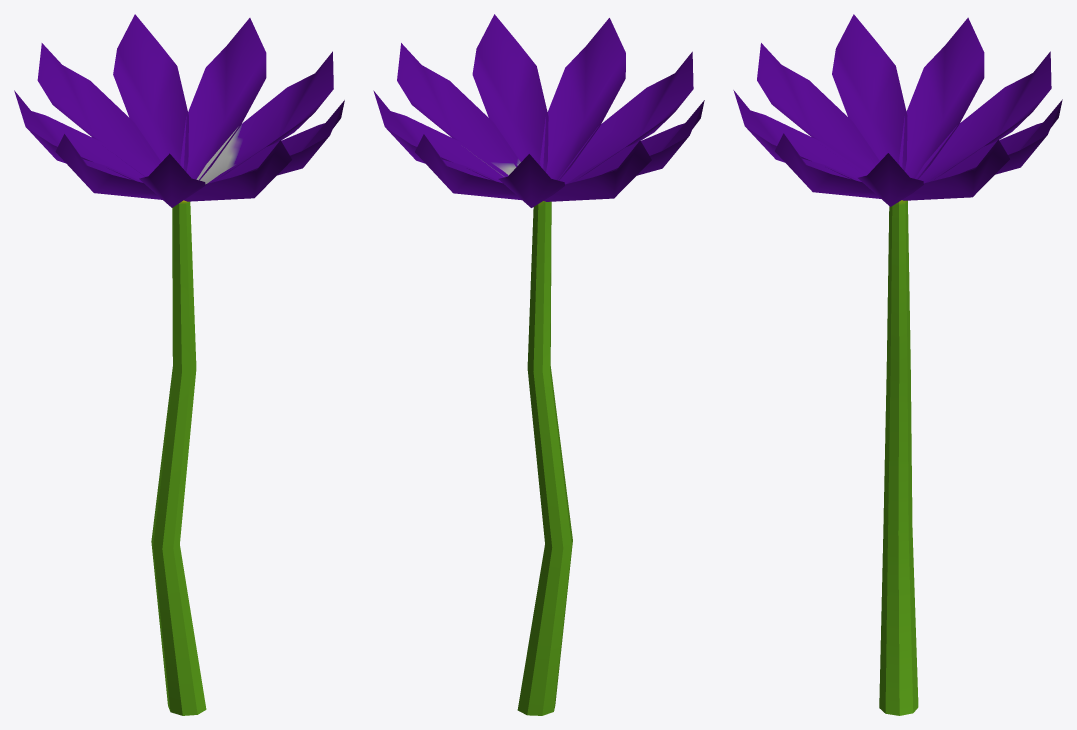
Rendered from Flower 8.fbx.
3 renders of one model, left to right at view 1: azimuth 30°, elevation 25°; view 2: azimuth 150°, elevation 25°; view 3: azimuth 270°, elevation 25°, orthographic.
Parts seen in each view (by area): view 1: Flower_8; view 2: Flower_8; view 3: Flower_8.
Boxes of the visible parts, x1,y1,x2,y2 form: Flower_8: (14, 14, 344, 715); Flower_8: (373, 14, 704, 715); Flower_8: (733, 14, 1062, 715).
Size of the model in its own units: 33.19 by 69.5 by 33.29.
1 material, 1 textured.
